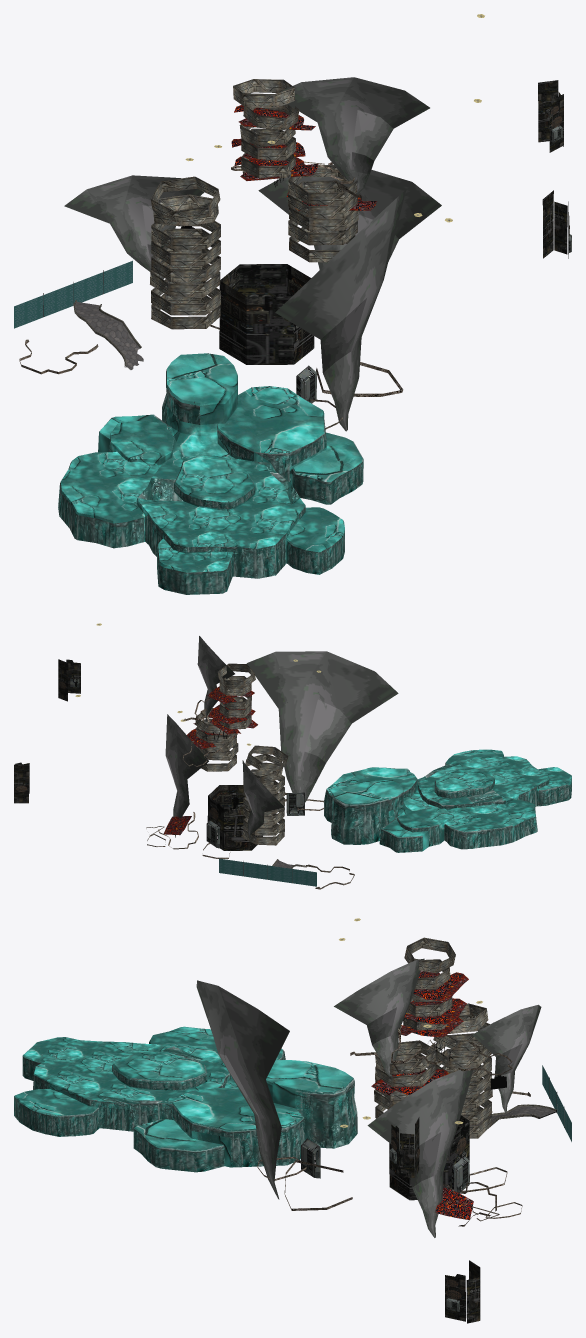
Rendered from site_06.glb.
3 views of the same model, one above another, from view 1: azimuth 30°, elevation 25°; view 2: azimuth 150°, elevation 25°; view 3: azimuth 270°, elevation 25° (orthographic). The views are drawn at different scales.
Parts seen in each view (by area): view 1: CHR_1B.1012_mat_160.001_0, CHR_1B.1103_mat_174_0, CHR_1B.209_mat_78.003_0, CHR_1B.204_mat_74.003_0, CHR_1B.296_mat_103.002_0, CHR_1B.1115_mat_178_0, CHR_1B.370_mat_117.002_0, CHR_1B.405_mat_121.002_0, CHR_1B.285_mat_101.003_0; view 2: CHR_1B.1103_mat_174_0, CHR_1B.1012_mat_160.001_0, CHR_1B.204_mat_74.003_0, CHR_1B.209_mat_78.003_0, CHR_1B.296_mat_103.002_0, CHR_1B.1115_mat_178_0, CHR_1B.405_mat_121.002_0, CHR_1B.285_mat_101.003_0, CHR_1B.1037_mat_164.001_0, CHR_1B.1036_mat_164.001_0, CHR_1B.1038_mat_164.001_0, CHR_1B.1105_mat_178_0 (+1 smaller); view 3: CHR_1B.1103_mat_174_0, CHR_1B.1012_mat_160.001_0, CHR_1B.204_mat_74.003_0, CHR_1B.209_mat_78.003_0, CHR_1B.296_mat_103.002_0, CHR_1B.1115_mat_178_0, CHR_1B.405_mat_121.002_0, CHR_1B.285_mat_101.003_0, CHR_1B.1105_mat_178_0.
Part boxes in pixels (bbox=[...]): CHR_1B.1012_mat_160.001_0: bbox=[60, 353, 363, 576]; CHR_1B.1103_mat_174_0: bbox=[64, 77, 441, 431]; CHR_1B.209_mat_78.003_0: bbox=[150, 79, 358, 329]; CHR_1B.204_mat_74.003_0: bbox=[58, 366, 363, 594]; CHR_1B.296_mat_103.002_0: bbox=[219, 80, 569, 364]; CHR_1B.1115_mat_178_0: bbox=[231, 105, 377, 210]; CHR_1B.370_mat_117.002_0: bbox=[75, 302, 143, 369]; CHR_1B.405_mat_121.002_0: bbox=[19, 161, 403, 429]; CHR_1B.285_mat_101.003_0: bbox=[296, 125, 571, 403]; CHR_1B.1103_mat_174_0: bbox=[165, 636, 398, 839]; CHR_1B.1012_mat_160.001_0: bbox=[327, 749, 571, 850]; CHR_1B.204_mat_74.003_0: bbox=[324, 755, 571, 852]; CHR_1B.209_mat_78.003_0: bbox=[195, 663, 288, 845]; CHR_1B.296_mat_103.002_0: bbox=[14, 659, 262, 850]; CHR_1B.1115_mat_178_0: bbox=[187, 686, 257, 749]; CHR_1B.405_mat_121.002_0: bbox=[146, 697, 354, 889]; CHR_1B.285_mat_101.003_0: bbox=[70, 678, 304, 848]; CHR_1B.1037_mat_164.001_0: bbox=[268, 865, 292, 883]; CHR_1B.1036_mat_164.001_0: bbox=[292, 869, 316, 886]; CHR_1B.1038_mat_164.001_0: bbox=[243, 862, 267, 879]; CHR_1B.1105_mat_178_0: bbox=[163, 816, 191, 835]; CHR_1B.1103_mat_174_0: bbox=[196, 958, 541, 1237]; CHR_1B.1012_mat_160.001_0: bbox=[14, 1026, 352, 1167]; CHR_1B.204_mat_74.003_0: bbox=[14, 1043, 357, 1172]; CHR_1B.209_mat_78.003_0: bbox=[374, 937, 492, 1138]; CHR_1B.296_mat_103.002_0: bbox=[389, 1115, 480, 1323]; CHR_1B.1115_mat_178_0: bbox=[371, 971, 468, 1095]; CHR_1B.405_mat_121.002_0: bbox=[257, 1025, 530, 1226]; CHR_1B.285_mat_101.003_0: bbox=[301, 1138, 469, 1311]; CHR_1B.1105_mat_178_0: bbox=[434, 1187, 473, 1219].
Bounding box in the file's own units: 263 × 116 × 219.
19 materials, 19 textured.
